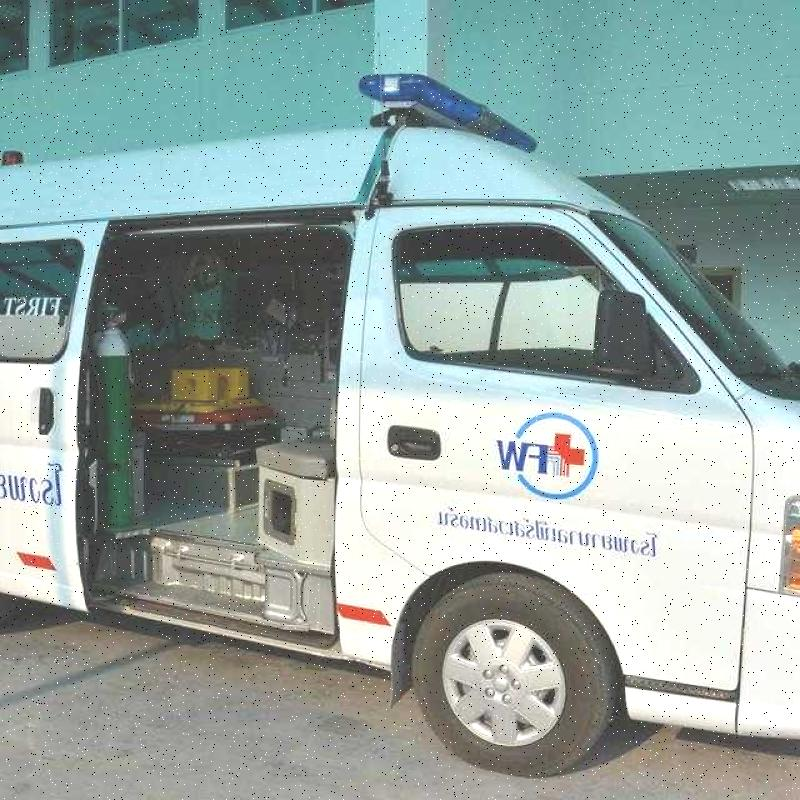AmbulanceSiren: (344, 63, 551, 169)
